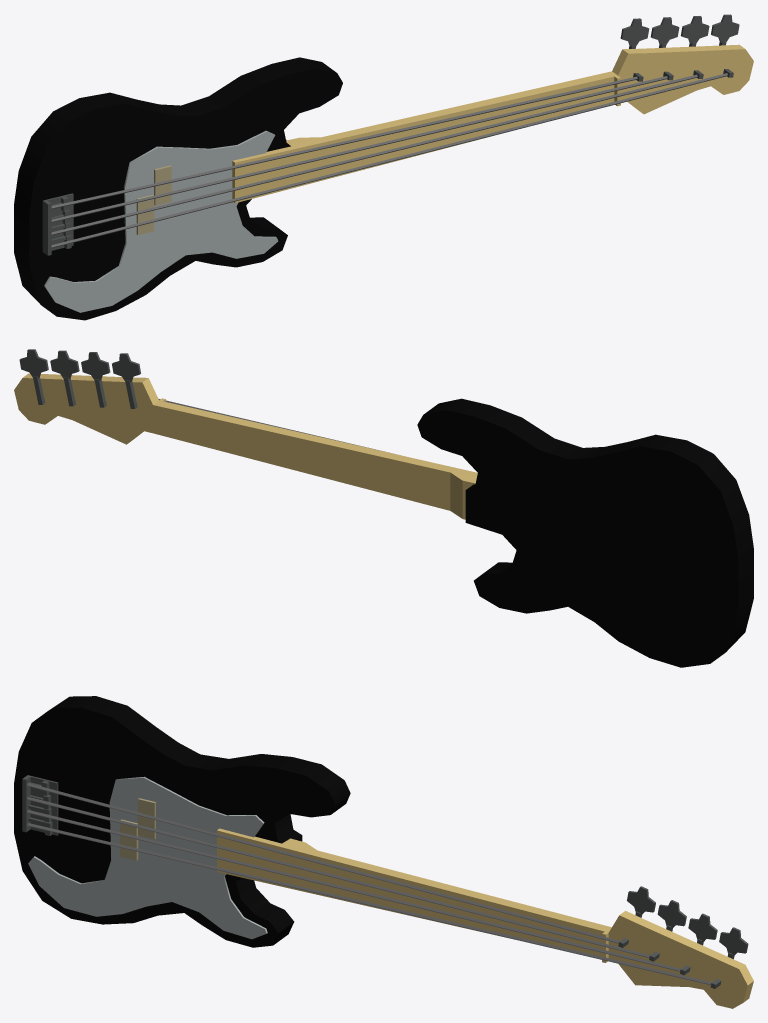
Rendered from Bass.fbx.
The picture shows the model from 3 angles, top to bottom: view 1: azimuth 30°, elevation 25°; view 2: azimuth 150°, elevation 25°; view 3: azimuth 330°, elevation 25°; orthographic projection. The views are drawn at different scales.
Visible parts, largest first — view 1: Bass; view 2: Bass; view 3: Bass.
Boxes of the visible parts, left/top/right/bottom form: Bass: left=14, top=14, right=753, bottom=320; Bass: left=14, top=349, right=753, bottom=667; Bass: left=14, top=696, right=753, bottom=1008.
Bounding box in the file's own units: 1.38 × 0.3822 × 0.0814.
